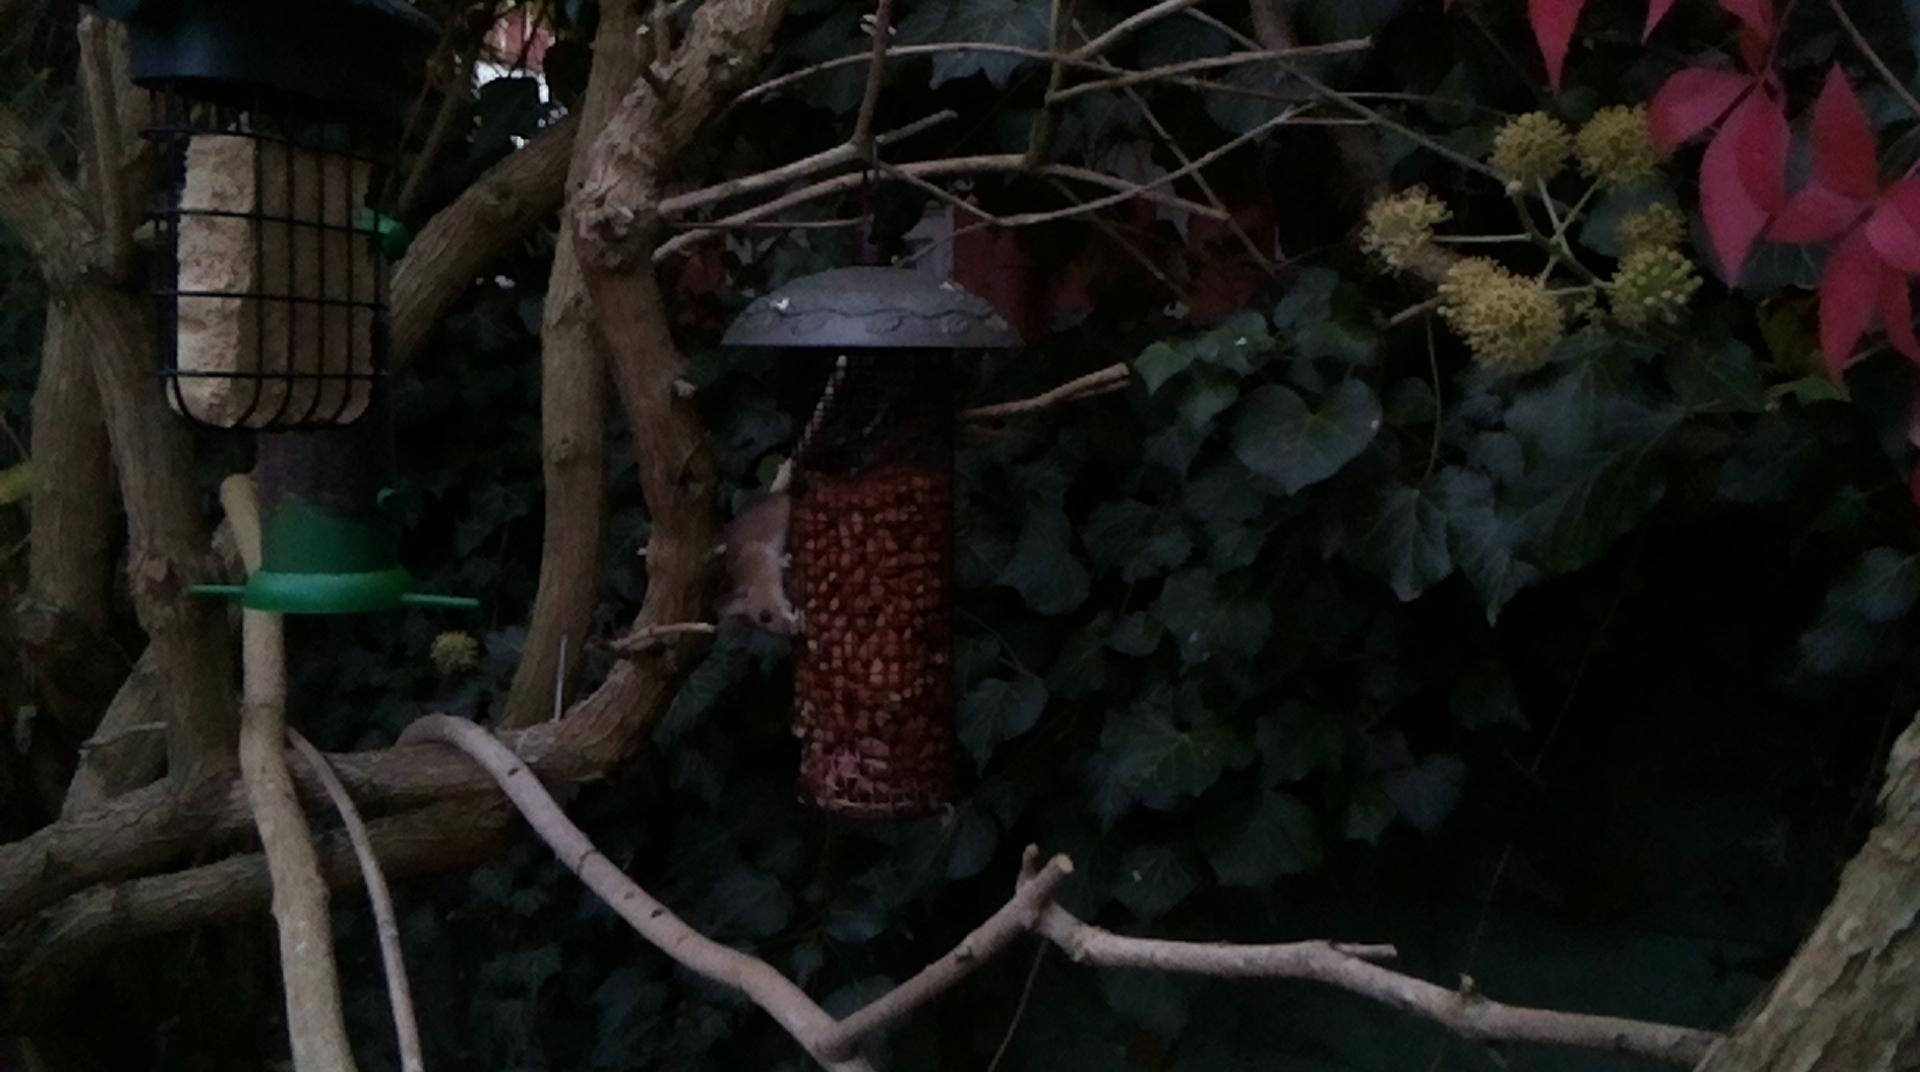mouse: (719, 491, 798, 636)
